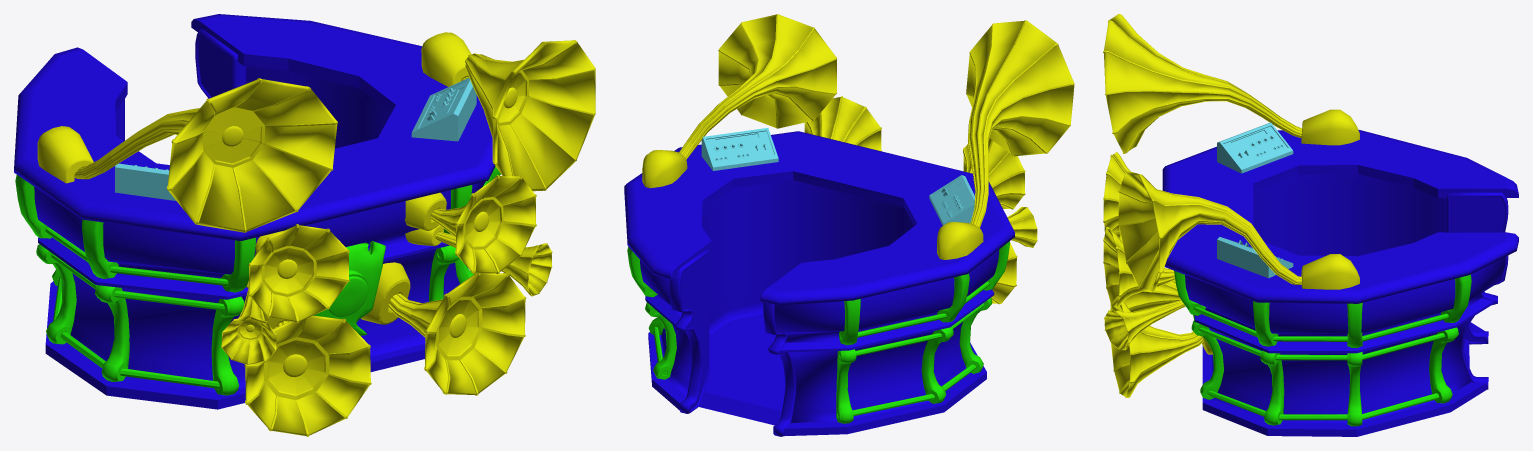
Rendered from m_DJ_Scene_Taille.fbx.
3 renders of one model, left to right at view 1: azimuth 30°, elevation 25°; view 2: azimuth 150°, elevation 25°; view 3: azimuth 270°, elevation 25°, orthographic. The views are drawn at different scales.
Visible parts, largest first — view 1: DJ_Scene; view 2: DJ_Scene; view 3: DJ_Scene.
Part boxes in pixels (box(x1,y1,x2,y2)): DJ_Scene: box(14, 14, 595, 436); DJ_Scene: box(624, 14, 1074, 436); DJ_Scene: box(1103, 14, 1518, 436).
Bounding box in the file's own units: 302 × 243 × 312.
